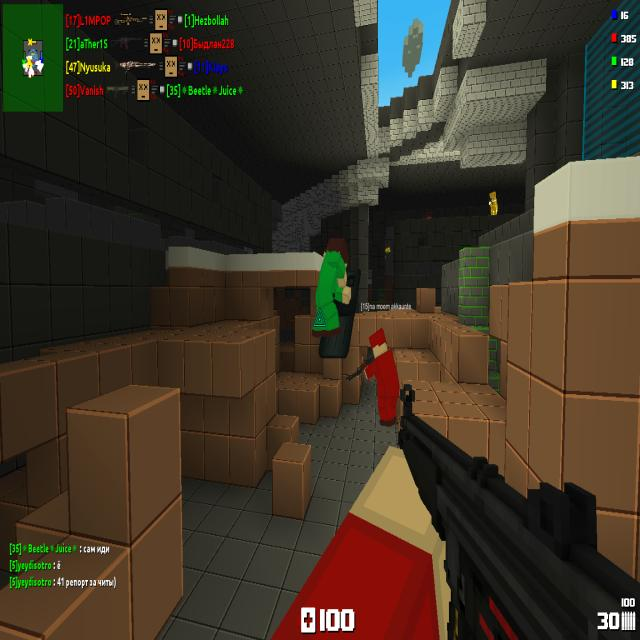enemy: (312, 237, 351, 338), (489, 191, 498, 215), (385, 248, 390, 258)
